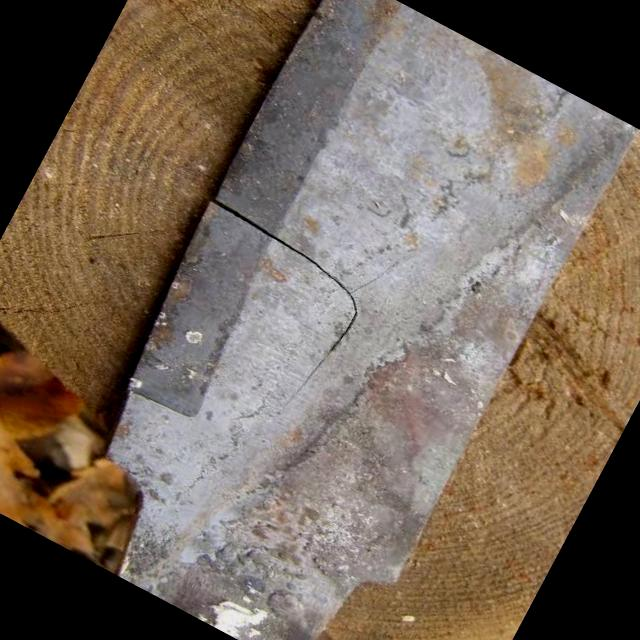defect: (213, 197, 365, 407)
